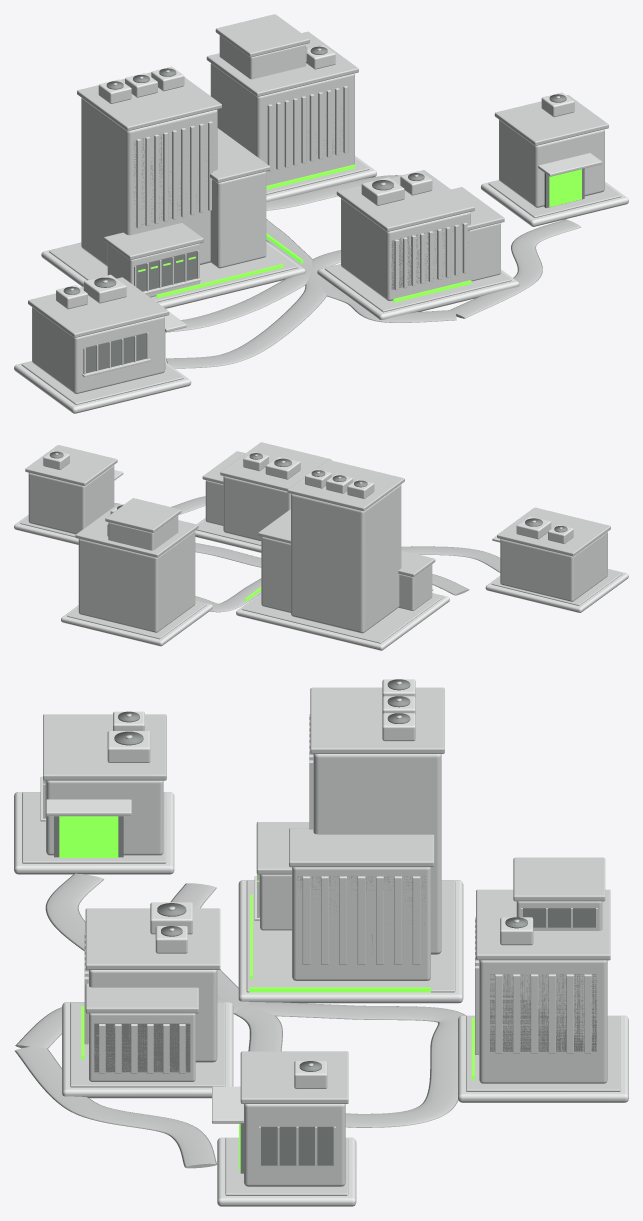
The model's file is overview-campus.glb.
The picture shows the model from 3 angles, top to bottom: view 1: azimuth 30°, elevation 25°; view 2: azimuth 150°, elevation 25°; view 3: azimuth 270°, elevation 25°; orthographic projection. The views are drawn at different scales.
Parts seen in each view (by area): view 1: model_core, retrieval_block, cpu_block, gateway_hall, model_wing, complete_hall, gateway_parapet, model_core_parapet, cpu_block_parapet, model_paving, road_ingress, complete_parapet (+29 smaller); view 2: model_core, retrieval_block, gateway_hall, complete_hall, cpu_block, model_core_parapet, gateway_parapet, model_paving, cpu_block_parapet, model_wing, complete_parapet, model_podium (+27 smaller); view 3: retrieval_block, model_core, model_wing, road_retrieval, model_core_parapet, cpu_block_parapet, gateway_parapet, model_paving, complete_hall, retrieval_parapet, model_wing_parapet, complete_parapet (+39 smaller).
Boxes of the visible parts, x1,y1,x2,y2 form: model_core: (81,98,217,266); retrieval_block: (210,63,354,185); cpu_block: (341,198,470,300); gateway_hall: (32,307,164,393); model_wing: (210,171,266,268); complete_hall: (499,120,604,207); gateway_parapet: (28,277,169,337); model_core_parapet: (77,72,221,131); cpu_block_parapet: (336,170,474,231); model_paving: (49,243,298,302); road_ingress: (166,270,326,368); complete_parapet: (494,95,608,145); model_core: (291,484,401,633); retrieval_block: (78,531,195,632); gateway_hall: (500,532,607,601); complete_hall: (28,465,114,534); cpu_block: (223,476,291,541); model_core_parapet: (287,460,404,511); gateway_parapet: (497,507,610,556); model_paving: (242,593,443,643); cpu_block_parapet: (220,442,331,491); model_wing: (261,537,290,612); complete_parapet: (25,445,117,486); model_podium: (236,593,449,650); retrieval_block: (479,960,607,1083); model_core: (313,754,441,954); model_wing: (292,867,430,980); road_retrieval: (234,1002,465,1127); model_core_parapet: (310,687,444,753); cpu_block_parapet: (85,908,220,969); gateway_parapet: (43,714,166,780); model_paving: (246,880,455,992); complete_hall: (244,1104,345,1186); retrieval_parapet: (476,889,610,960); model_wing_parapet: (289,828,434,867); complete_parapet: (240,1051,348,1103).
Size of the model in its own units: 18.1 by 4.91 by 11.5.
